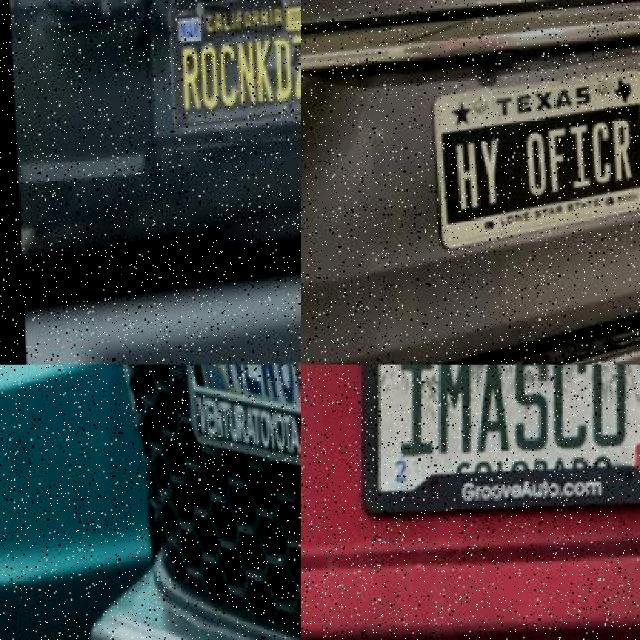licenseplate: (364, 365, 640, 517), (433, 72, 640, 252), (157, 365, 300, 560), (169, 0, 300, 134)
